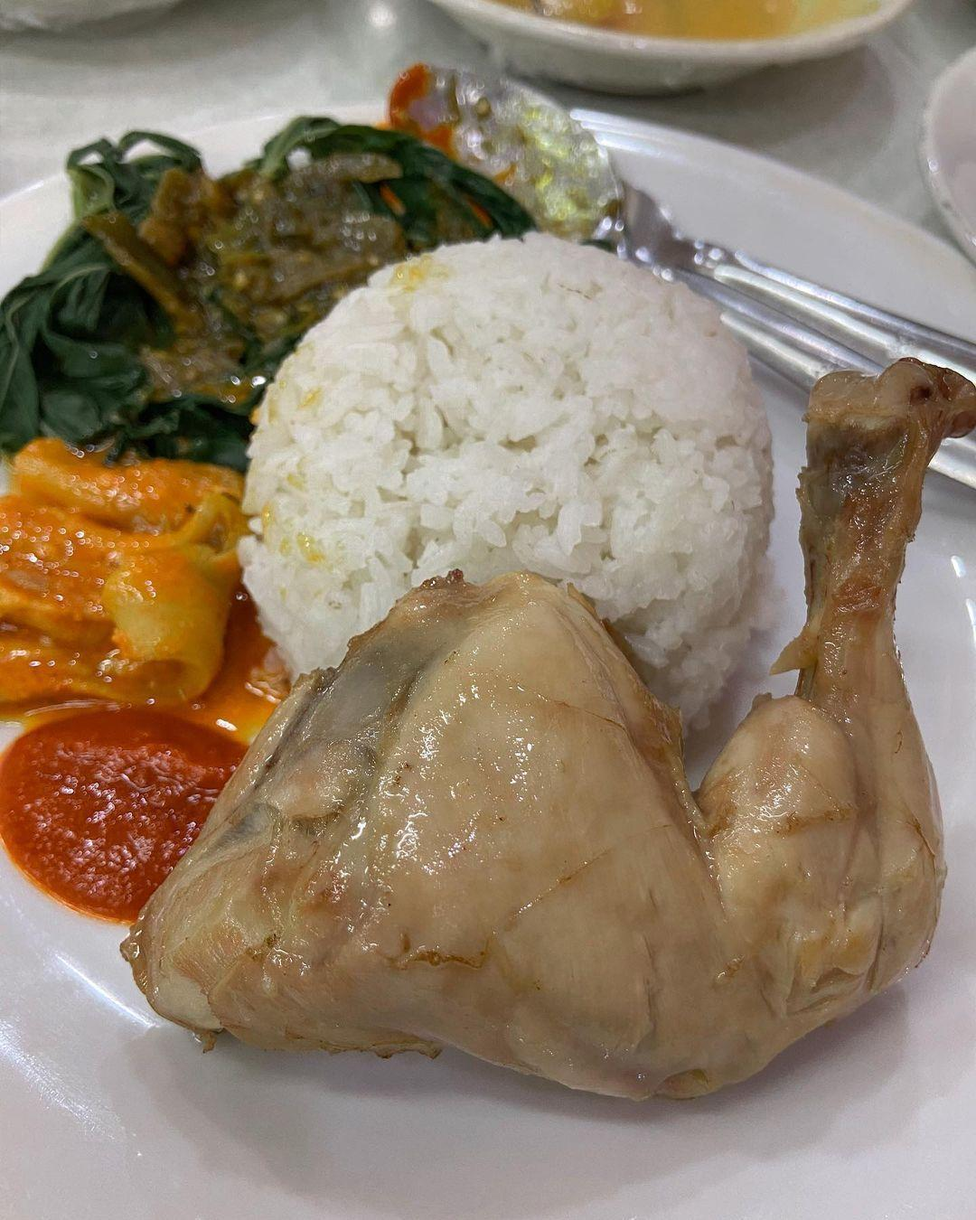buah_sayur_lainnya: (8, 249, 231, 773)
daging: (377, 766, 896, 1024)
makanan_berpati: (358, 288, 685, 561)
